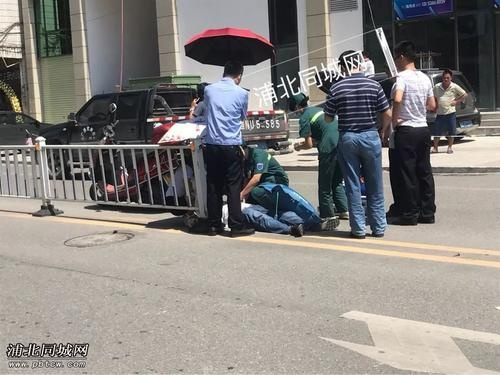falling: (224, 182, 343, 243)
